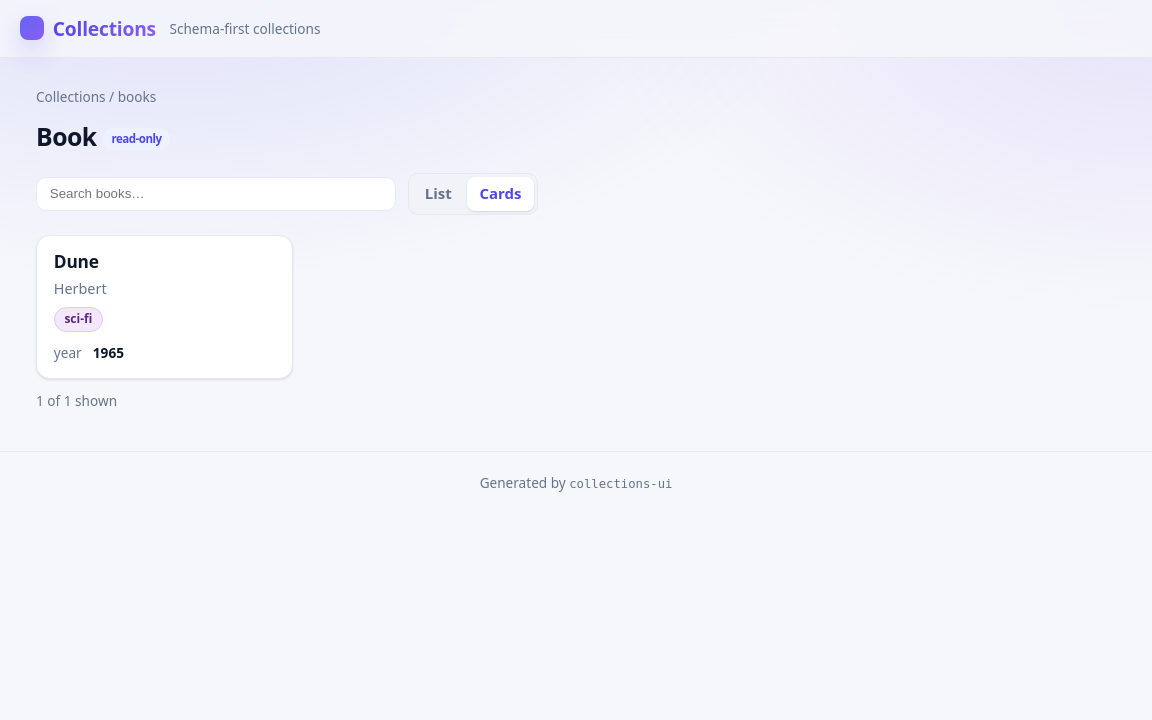
card view › toggles to the list (table) view
Expected: the link "Dune Herbert sci-fi" is shown, [36, 235, 293, 379]
Click the button "List" at x=438, y=194, box [412, 177, 465, 211]
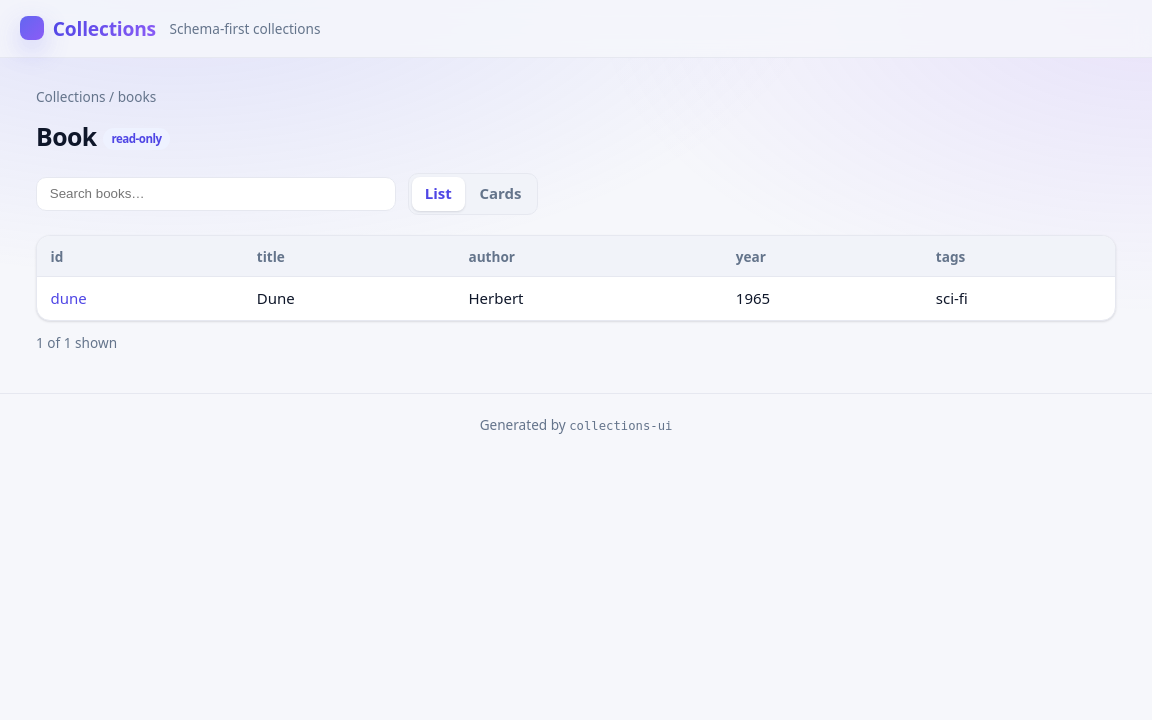
Expected: the table is shown, [37, 236, 1115, 320]
